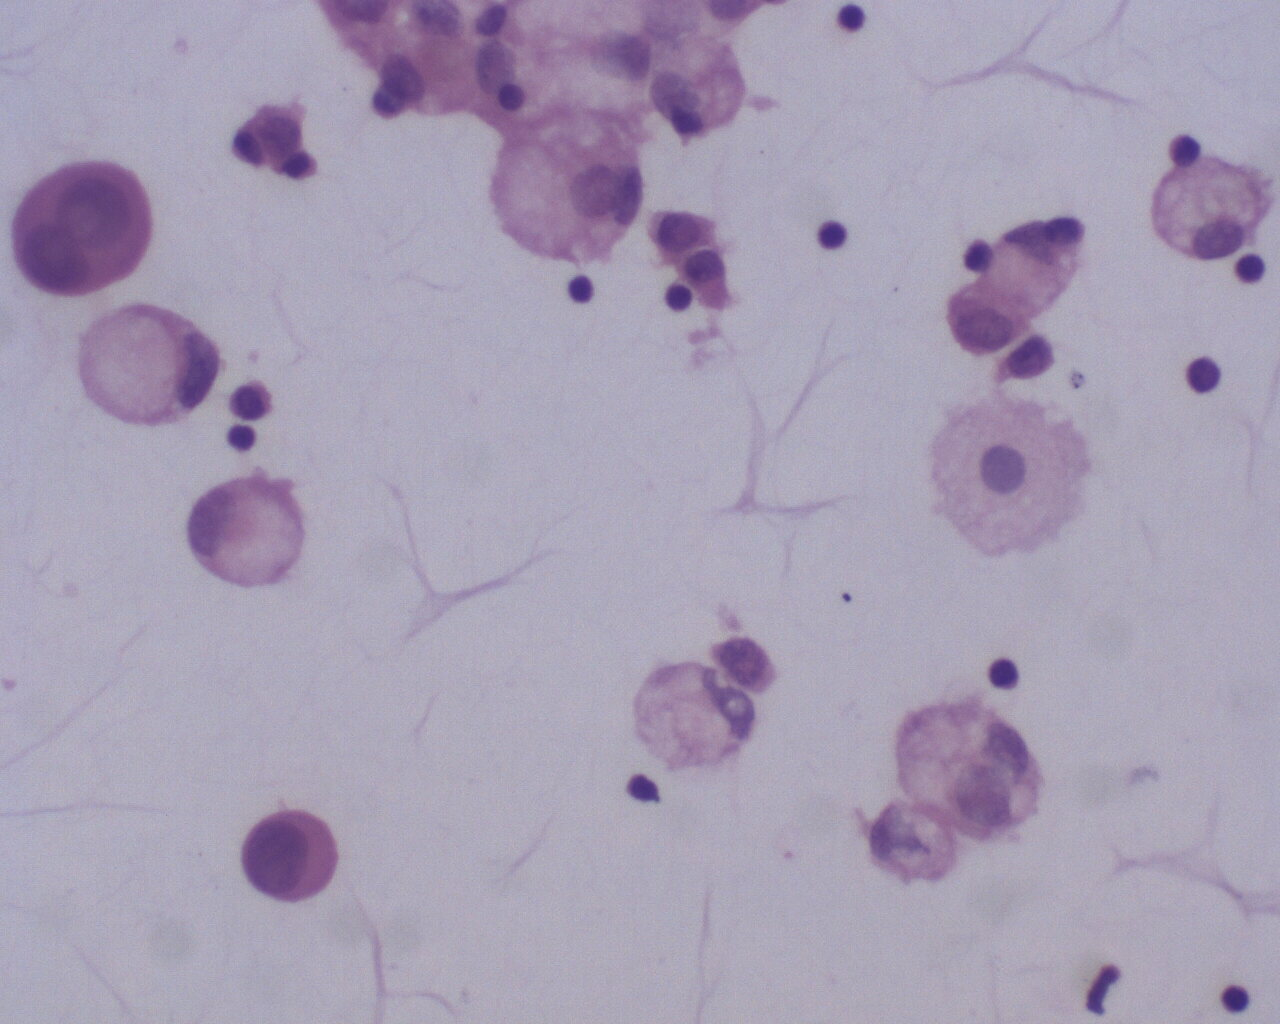ab: (2, 156, 161, 299), (1149, 156, 1270, 260), (239, 806, 344, 904)
histo: (77, 303, 219, 430), (178, 468, 305, 594)
lymph: (984, 651, 1026, 699), (827, 1, 872, 41), (1218, 980, 1258, 1022), (1232, 248, 1270, 289), (812, 212, 851, 252), (656, 280, 696, 316), (563, 270, 599, 306)
